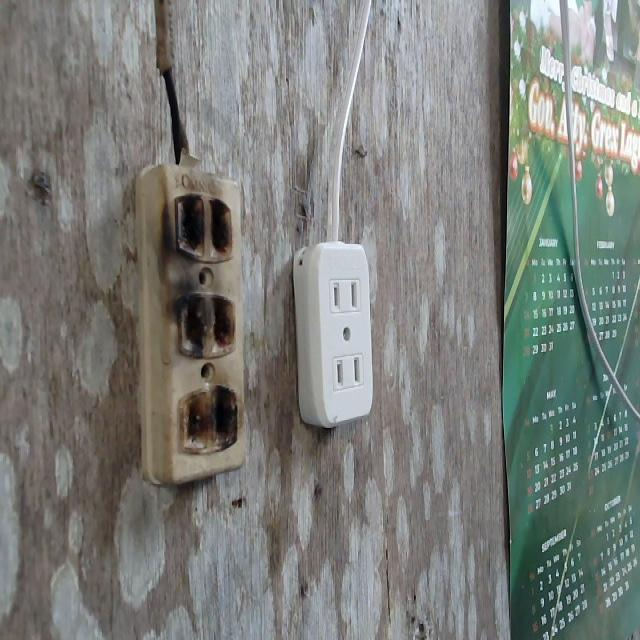-: (162, 179, 242, 460)
